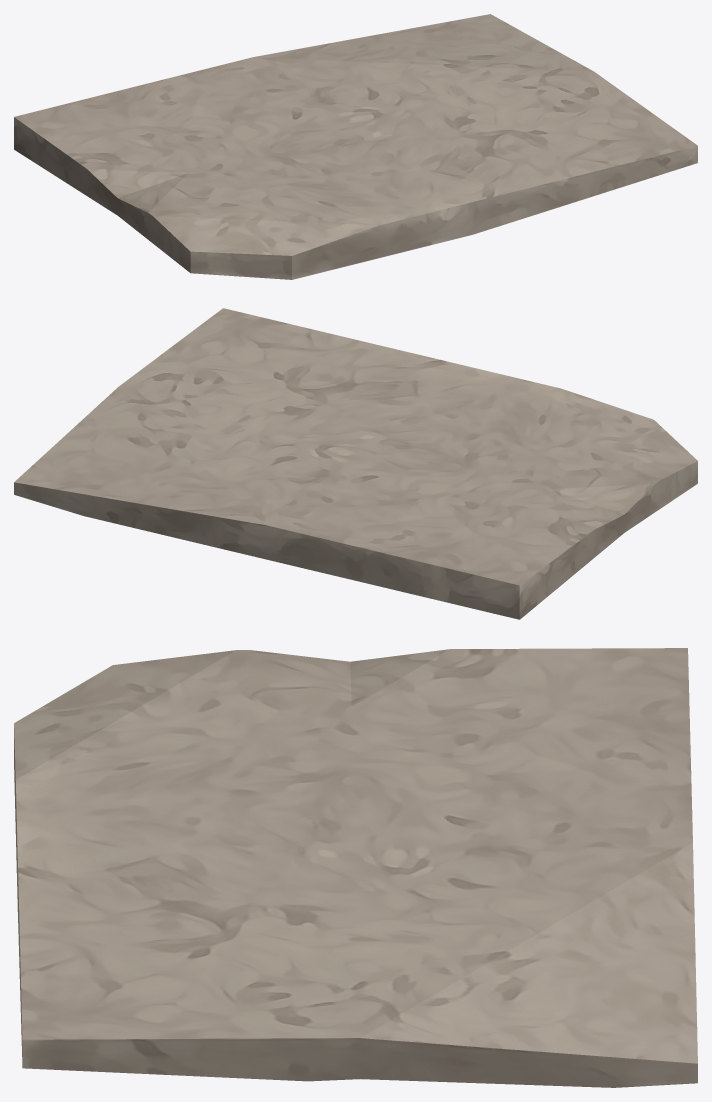
The model's file is ruina_1_top_duzy.obj.
The picture shows the model from 3 angles, top to bottom: view 1: azimuth 30°, elevation 25°; view 2: azimuth 150°, elevation 25°; view 3: azimuth 270°, elevation 25°; orthographic projection. The views are drawn at different scales.
Visible parts, largest first — view 1: Cylinder.005; view 2: Cylinder.005; view 3: Cylinder.005.
Boxes of the visible parts, left/top/right/bottom form: Cylinder.005: left=14, top=14, right=697, bottom=279; Cylinder.005: left=14, top=308, right=697, bottom=619; Cylinder.005: left=14, top=648, right=697, bottom=1087.
Size of the model in its own units: 32.39 by 2.09 by 23.91.
1 material, 1 textured.
